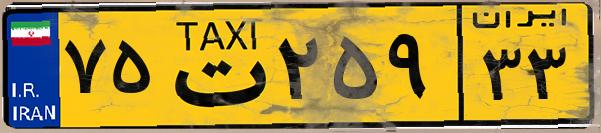2: (270, 28, 330, 110)
3: (475, 38, 525, 113), (525, 38, 570, 115)
5: (330, 28, 385, 110), (110, 28, 158, 98)
7: (57, 26, 110, 100)
9: (385, 28, 445, 110)
ت: (158, 12, 270, 120)
